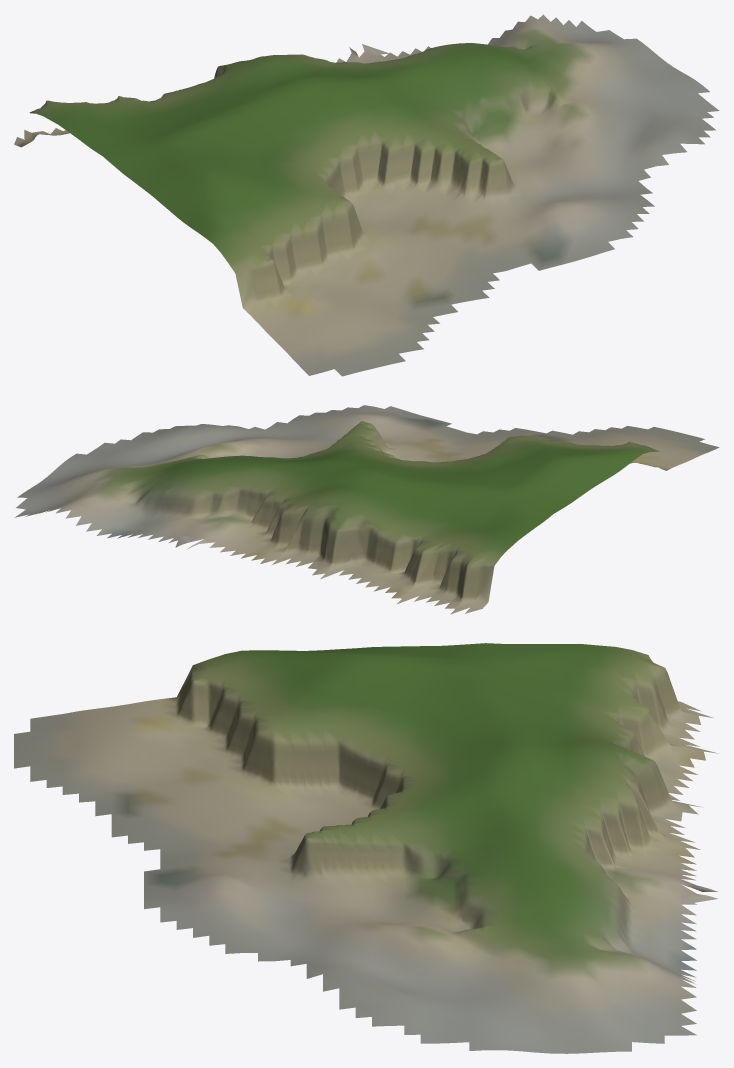
Rendered from coast_tile_x2z2.glb.
3 views of the same model, one above another, from view 1: azimuth 30°, elevation 25°; view 2: azimuth 150°, elevation 25°; view 3: azimuth 270°, elevation 25° (orthographic). The views are drawn at different scales.
Visible parts, largest first — view 1: coast_tile_x2z2; view 2: coast_tile_x2z2; view 3: coast_tile_x2z2.
Boxes of the visible parts, x1,y1,x2,y2 form: coast_tile_x2z2: [14, 14, 719, 376]; coast_tile_x2z2: [14, 405, 719, 614]; coast_tile_x2z2: [14, 643, 718, 1053].
Size of the model in its own units: 282 by 41.59 by 260.
